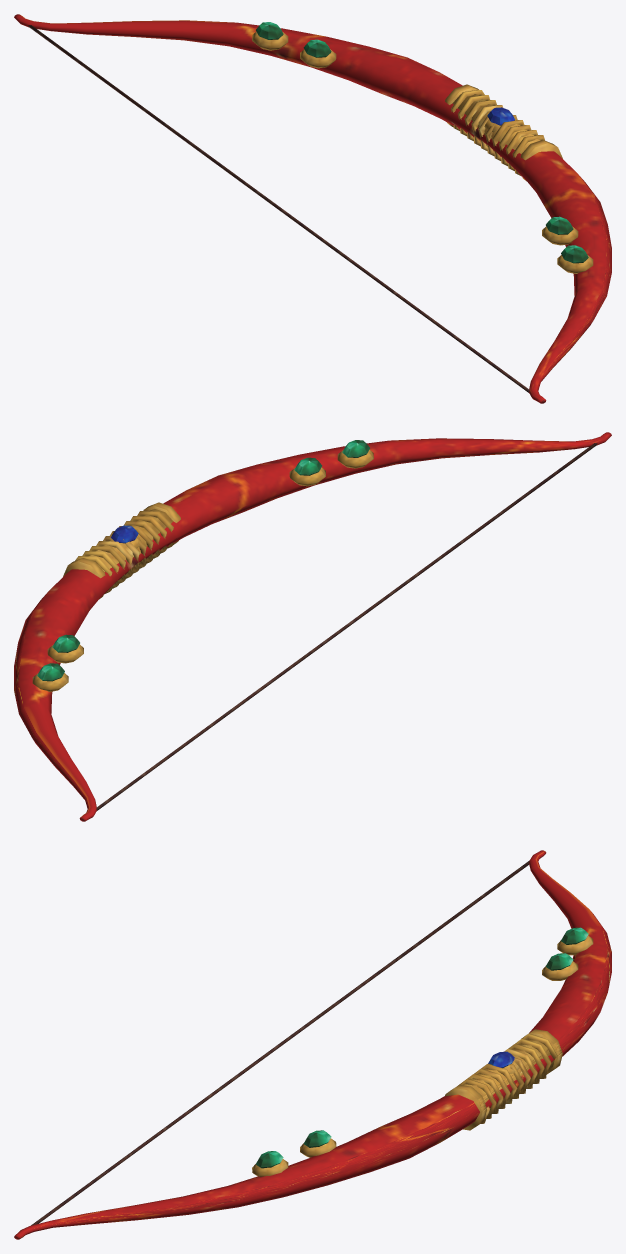
File: item_bow3.glb
3 renders of one model, top to bottom at view 1: azimuth 30°, elevation 25°; view 2: azimuth 150°, elevation 25°; view 3: azimuth 330°, elevation 25°, orthographic.
Visible parts, largest first — view 1: item_bow3; view 2: item_bow3; view 3: item_bow3.
Part boxes in pixels (bbox=[...]): item_bow3: bbox=[14, 14, 611, 403]; item_bow3: bbox=[14, 432, 611, 821]; item_bow3: bbox=[14, 850, 611, 1239].
Size of the model in its own units: 0.2724 by 0.0498 by 1.
1 material, 1 textured.
